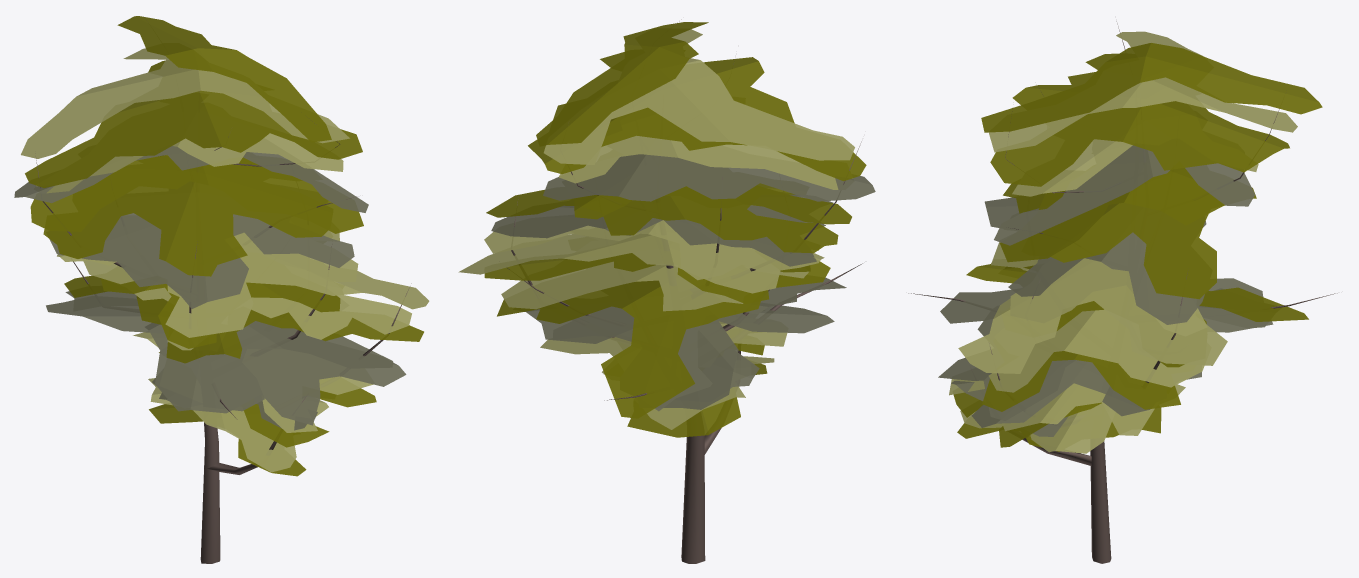
File: Tree3.dae
The picture shows the model from 3 angles, left to right: view 1: azimuth 30°, elevation 25°; view 2: azimuth 150°, elevation 25°; view 3: azimuth 270°, elevation 25°; orthographic projection. The views are drawn at different scales.
Visible parts, largest first — view 1: group_10, group_14, group_13, group_22, group_15, group_9, group_21, group_17, group_3, group_19, group_20, group_12 (+8 smaller); view 2: group_20, group_9, group_12, group_3, group_14, group_10, group_17, group_19, group_22, group_11, group_15, group_16 (+8 smaller); view 3: group_10, group_3, group_17, group_14, group_12, group_20, group_19, group_13, group_9, group_15, group_21, group_16 (+9 smaller).
Boxes of the visible parts, left/top/right/bottom form: group_10: left=25, top=60, right=362, bottom=188; group_14: left=43, top=181, right=327, bottom=276; group_13: left=30, top=154, right=363, bottom=233; group_22: left=46, top=300, right=406, bottom=425; group_15: left=49, top=213, right=354, bottom=308; group_9: left=21, top=48, right=349, bottom=158; group_21: left=65, top=291, right=392, bottom=411; group_17: left=83, top=230, right=429, bottom=337; group_3: left=117, top=16, right=331, bottom=142; group_19: left=134, top=287, right=411, bottom=350; group_20: left=64, top=275, right=423, bottom=363; group_12: left=14, top=146, right=368, bottom=212; group_20: left=497, top=261, right=830, bottom=418; group_9: left=543, top=29, right=854, bottom=164; group_12: left=543, top=154, right=875, bottom=201; group_3: left=536, top=22, right=708, bottom=146; group_14: left=486, top=183, right=838, bottom=253; group_10: left=528, top=52, right=866, bottom=181; group_17: left=458, top=233, right=818, bottom=293; group_19: left=501, top=261, right=808, bottom=311; group_22: left=614, top=305, right=834, bottom=409; group_11: left=559, top=135, right=852, bottom=189; group_15: left=491, top=194, right=833, bottom=266; group_16: left=484, top=220, right=824, bottom=280; group_10: left=990, top=53, right=1289, bottom=186; group_3: left=981, top=43, right=1322, bottom=132; group_17: left=958, top=242, right=1227, bottom=373; group_14: left=1003, top=184, right=1216, bottom=299; group_12: left=994, top=145, right=1255, bottom=245; group_20: left=966, top=263, right=1308, bottom=411; group_19: left=988, top=267, right=1204, bottom=392; group_13: left=999, top=168, right=1256, bottom=262; group_9: left=988, top=31, right=1297, bottom=152; group_15: left=984, top=197, right=1206, bottom=324; group_21: left=940, top=288, right=1268, bottom=420; group_16: left=1010, top=258, right=1207, bottom=336.
Size of the model in its own units: 358 by 380 by 483.
